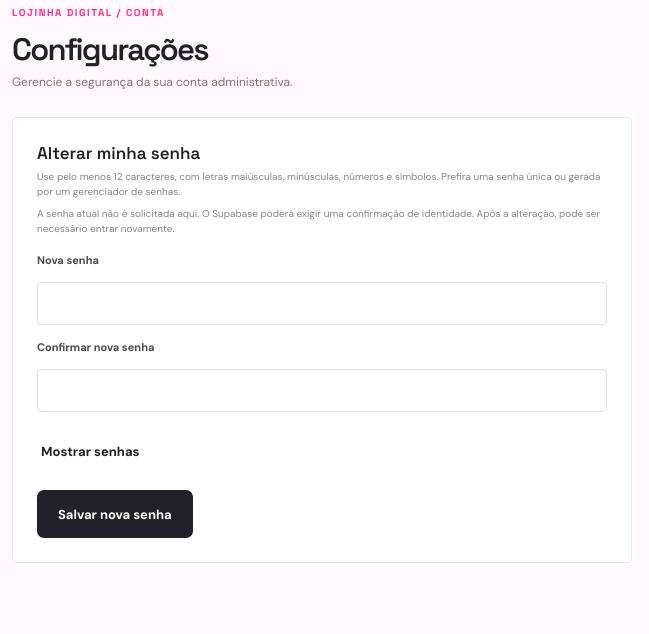
Test: alteração de senha administrativa › rejeita senha fraca Curta1!
The width and height of the screenshot is (649, 634).
Step 1. Type "Curta1!" into the password field labelled "Nova senha" → (322, 304), box x1=37 y1=282 x2=607 y2=325
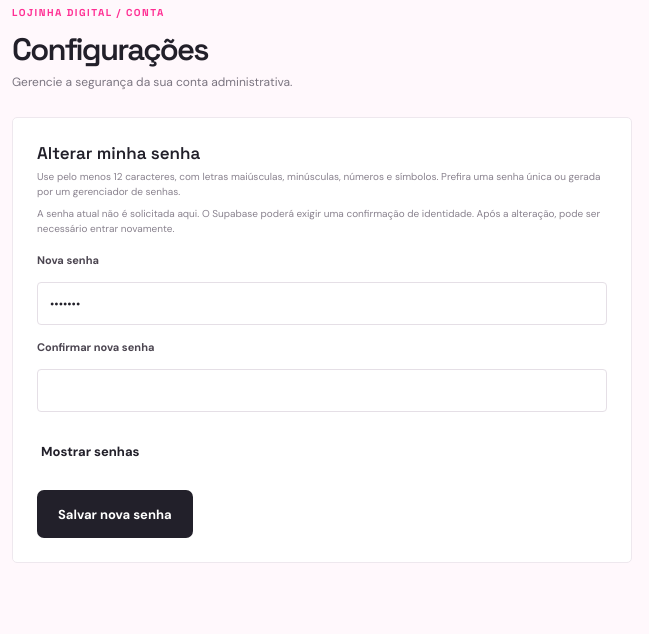
Step 2. Type "Curta1!" into the password field labelled "Confirmar nova senha" → (322, 390), box x1=37 y1=369 x2=607 y2=412
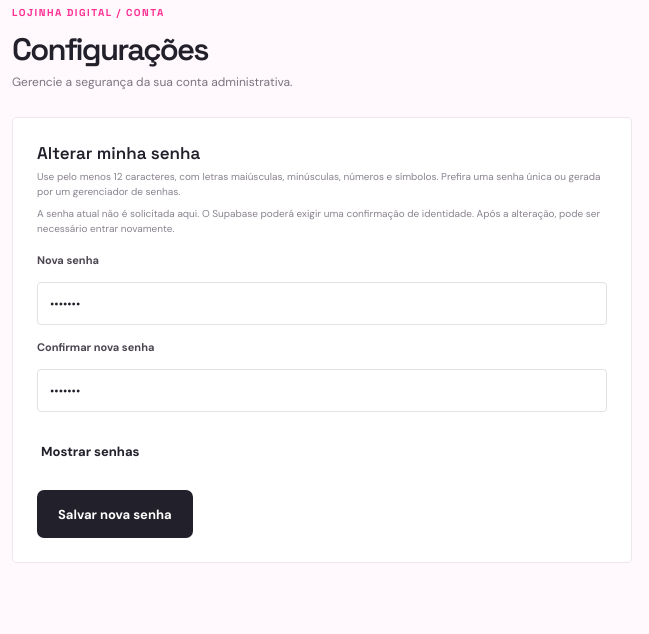
Step 3. Submit the form named "Salvar nova senha"
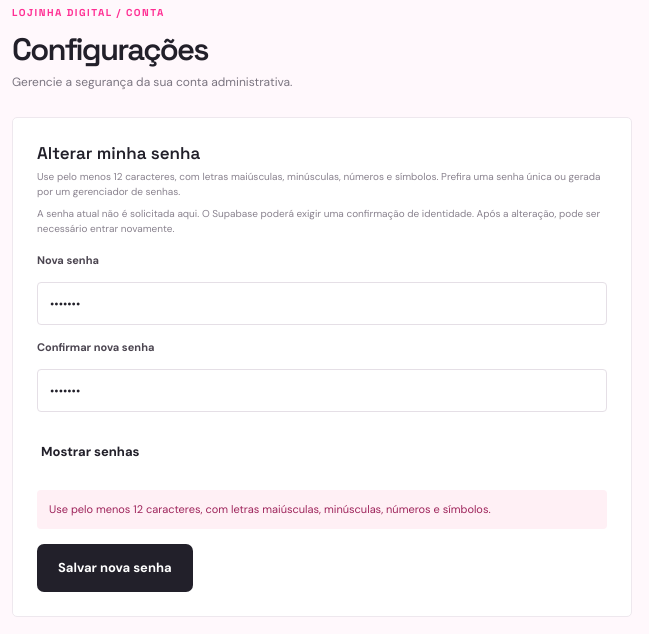
Result: the message shows "Use pelo menos 12 caracteres" at x1=49 y1=502 x2=491 y2=516
